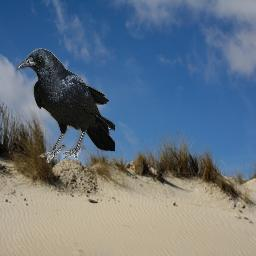Crow: (16, 48, 115, 163)
